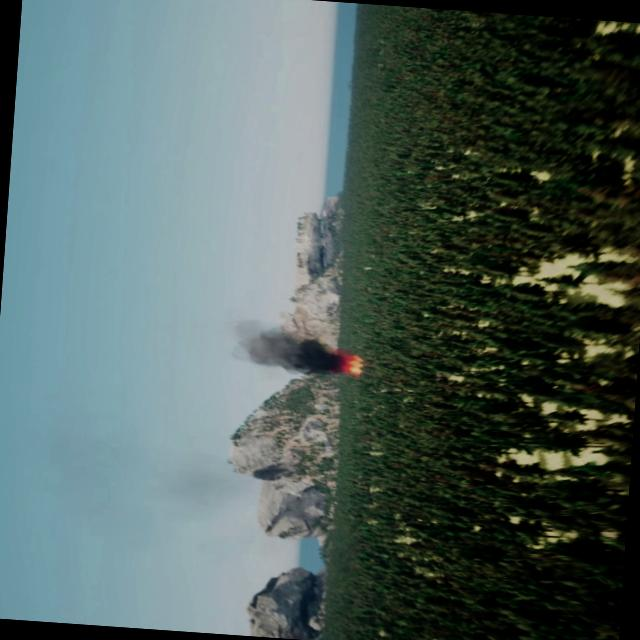fire: (330, 346, 361, 376)
smoke: (226, 320, 336, 372)
